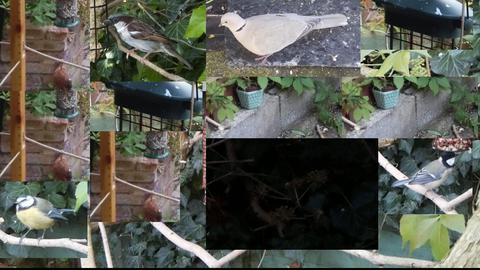blue tit: (12, 194, 75, 246)
collared dove: (218, 12, 348, 64)
great tit: (391, 151, 460, 202)
sparrow: (102, 12, 194, 69)
